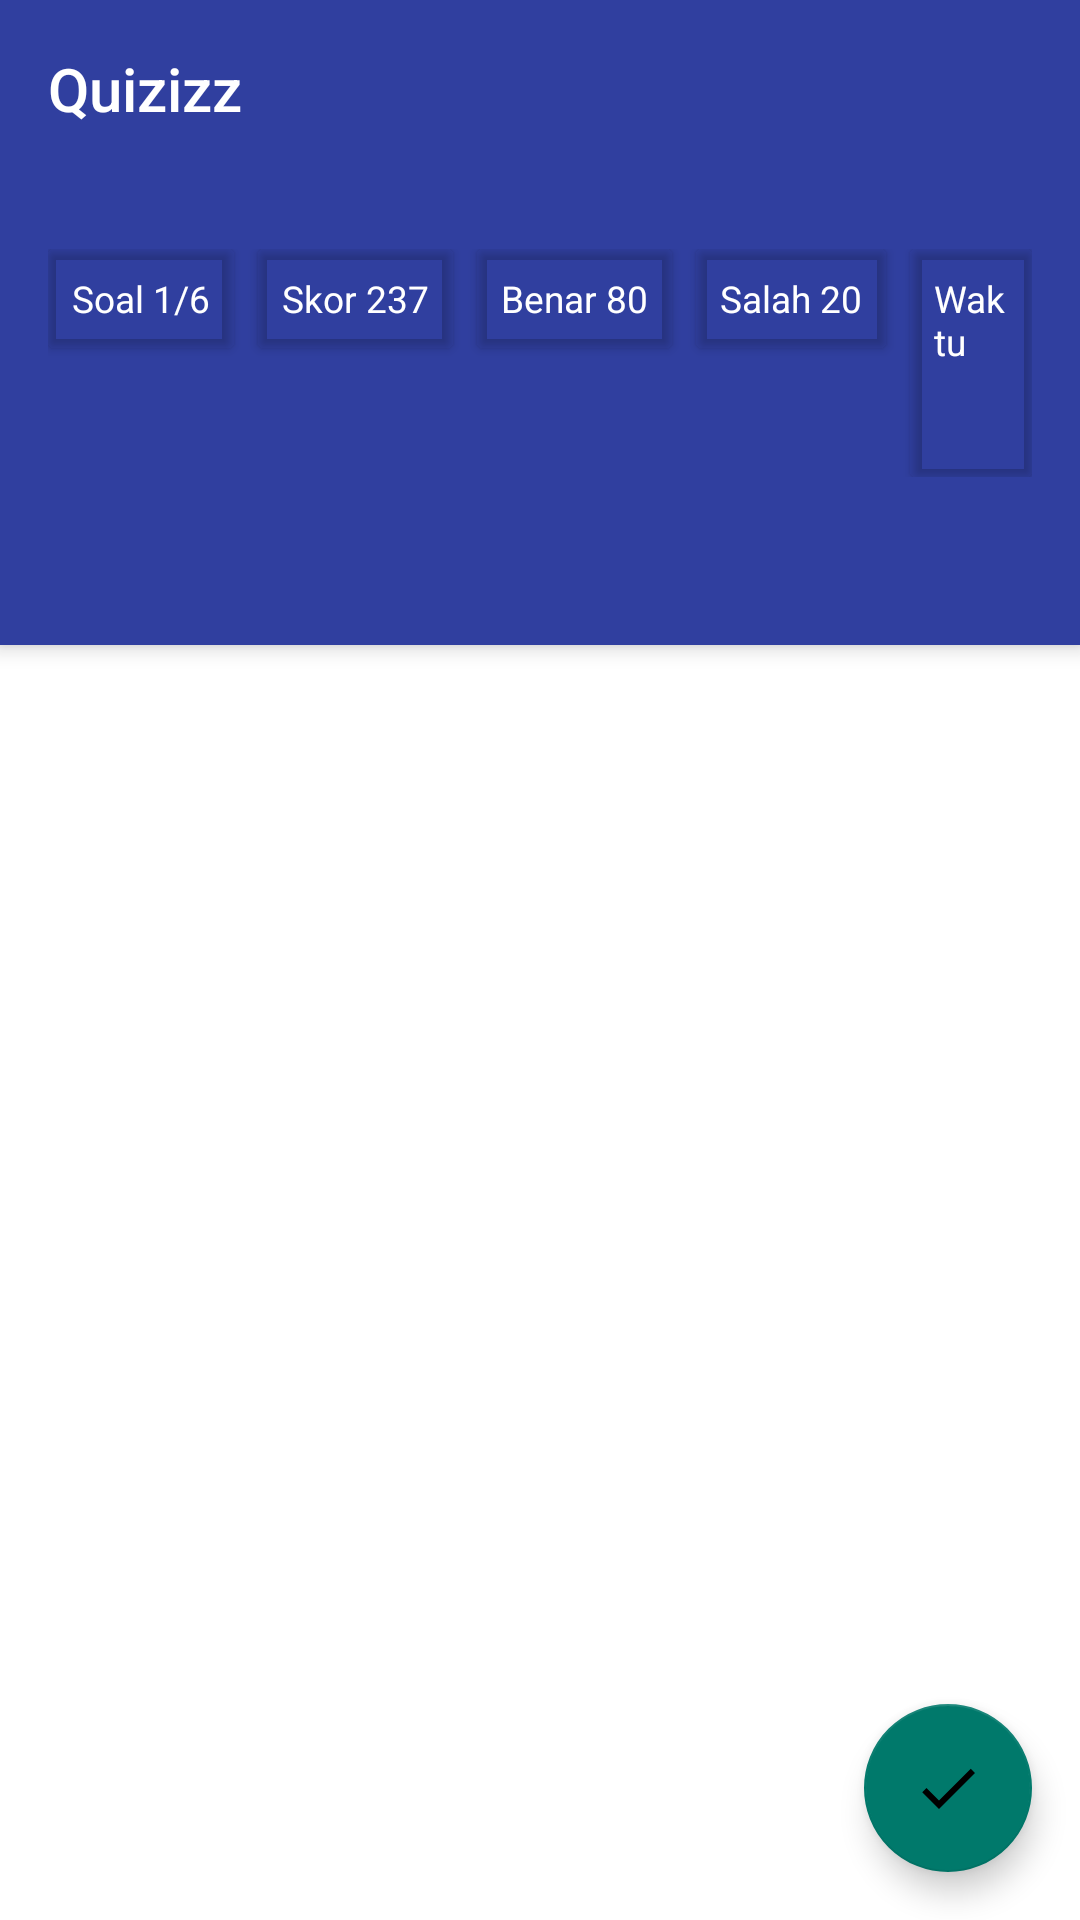

Point at icon controls on the screen. Image size 1080 x 1920, points as [x,y].
check: [948,1788]
